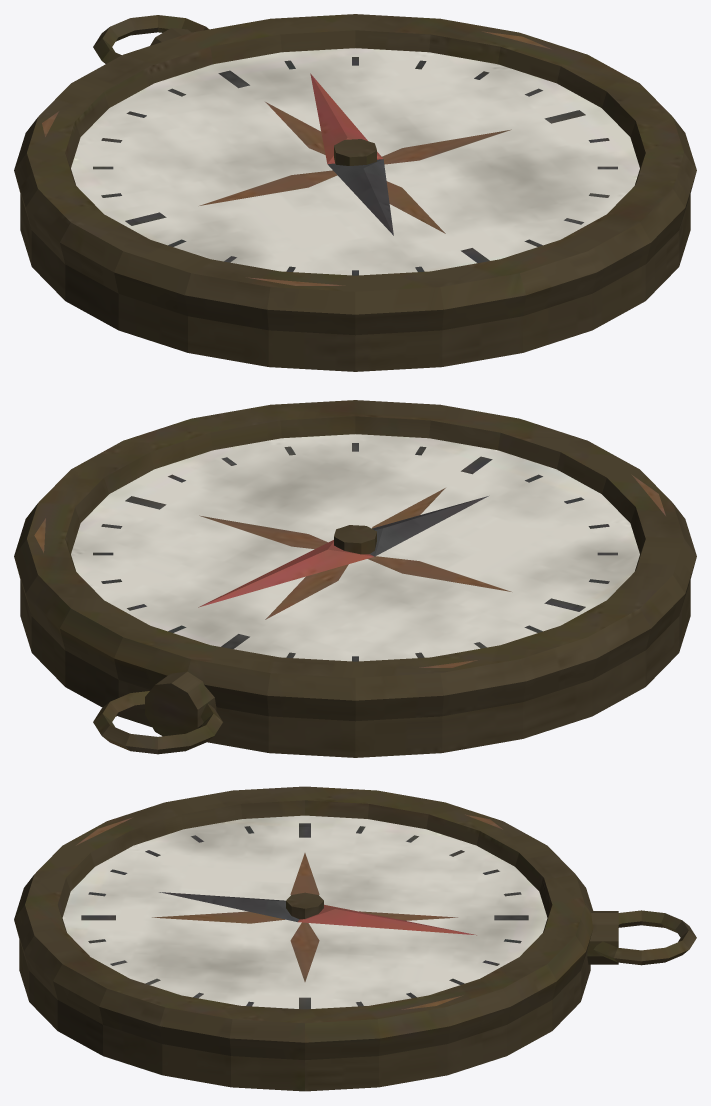
File: P34_brass_compass.glb
3 renders of one model, top to bottom at view 1: azimuth 30°, elevation 25°; view 2: azimuth 150°, elevation 25°; view 3: azimuth 270°, elevation 25°, orthographic. The views are drawn at different scales.
Parts seen in each view (by area): view 1: Compass case; view 2: Compass case; view 3: Compass case.
Boxes of the visible parts, x1,y1,x2,y2 form: Compass case: [14, 14, 696, 371]; Compass case: [14, 400, 696, 757]; Compass case: [14, 786, 696, 1091].
Size of the model in its own units: 0.0682 by 0.00905 by 0.08.
6 materials, 6 textured.
